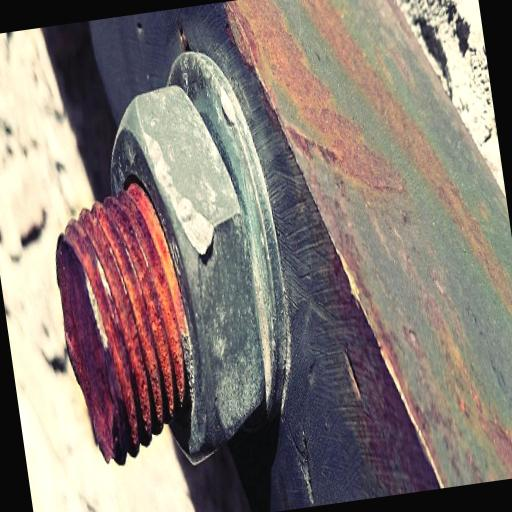segmentation: (38, 178, 212, 469), (270, 59, 339, 127), (264, 21, 293, 86)
